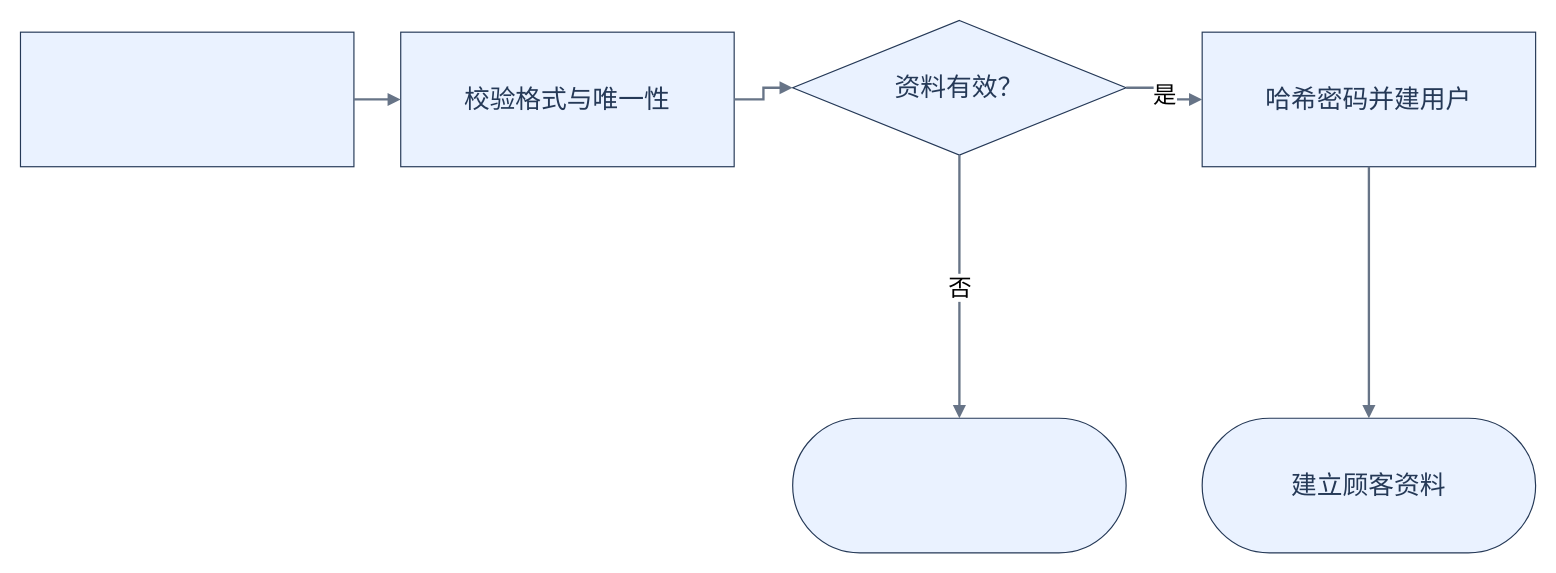
This 1556x573 diagram has some shape labels left out. The shapes that lost their labels are listed below. From the top down, each one's centre as x and y in pixels, then its label:
[186,99]: 填写账户资料
[959,485]: 返回校验错误
